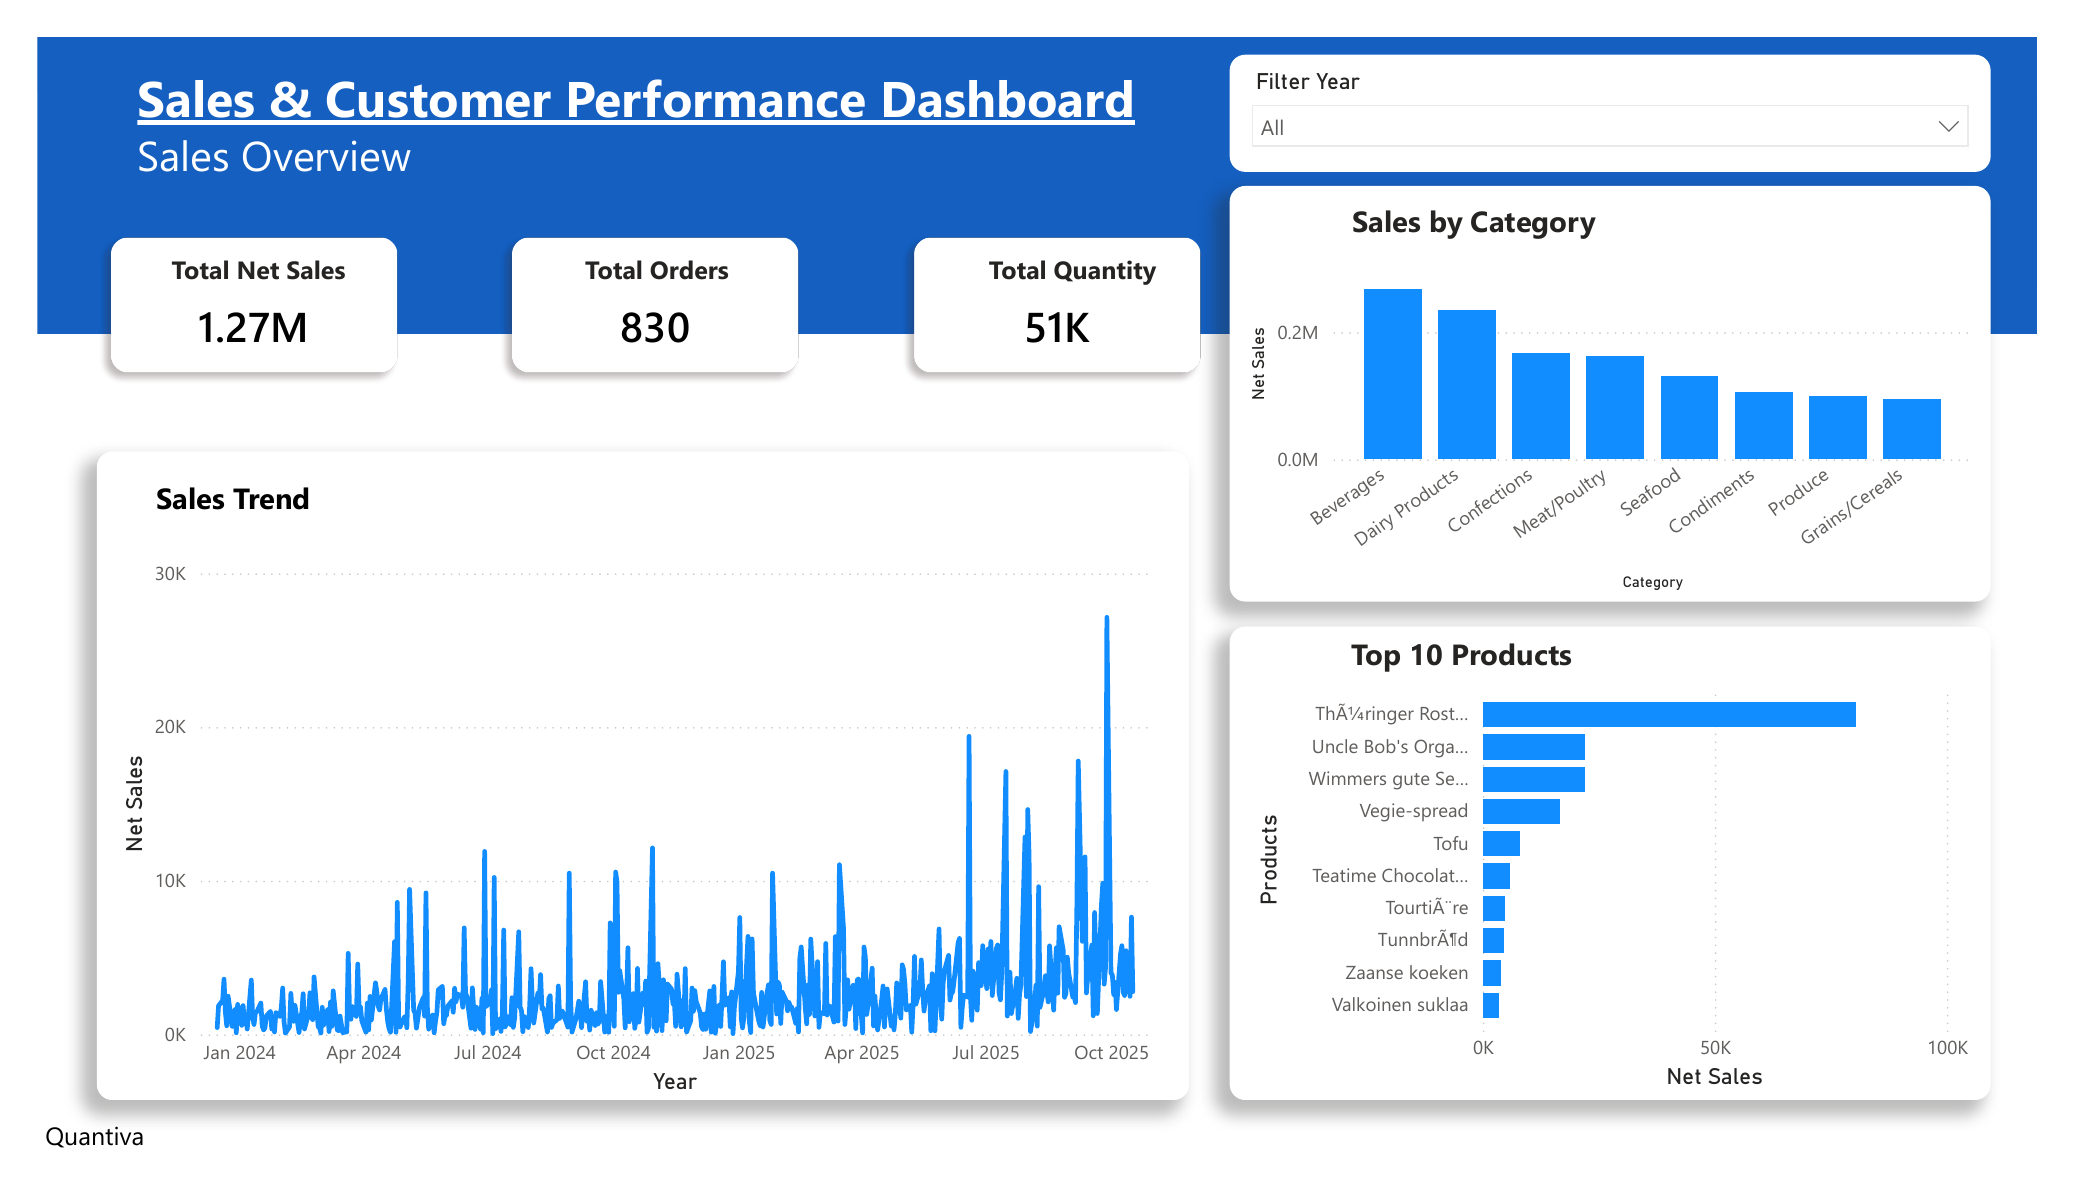

The dashboard page shown, as its layout file describes it:
{"tool":"powerbi","page":{"name":"Page 1","canvas":[1280,720],"ordinal":0},"visuals":[{"type":"shape","box":[0,0,1280,190],"z":0},{"type":"shape","box":[763,95,487,266],"z":0,"group":"g3"},{"type":"group","id":"g1","title":"Group 1","box":[38,265,699,415],"z":0,"group":"g2"},{"type":"shape","box":[763,377,487,303],"z":0,"group":"g4"},{"type":"shape","box":[38,265,699,415],"z":500,"group":"g1"},{"type":"textbox","box":[59,11,678,57],"z":1000},{"type":"textbox","box":[62.8,276.8,124.9,51.7],"z":1000,"group":"g2"},{"type":"clusteredBarChart","fields":{"Category":["dataset.product_name"],"Y":["Sum(dataset.net_sales)"]},"box":[771,400,472,280],"z":1000,"group":"g4"},{"type":"textbox","box":[807.6,99.9,223,46.3],"z":2000,"group":"g3"},{"type":"group","id":"g2","title":"Group 2","box":[38,265,699,415],"z":2000},{"type":"textbox","box":[807.6,377,207.7,46.8],"z":2000,"group":"g4"},{"type":"group","id":"g3","title":"Group 3","box":[763,95,487,266],"z":3000},{"type":"cardVisual","fields":{"Data":["Sum(dataset.net_sales)","Count(dataset.order_id)","Sum(dataset.quantity)"]},"box":[0,96,793,150],"z":3000,"group":"g5"},{"type":"textbox","box":[76,133,131,38],"z":4000,"group":"g5"},{"type":"group","id":"g4","title":"Group 3","box":[763,377,487,303],"z":4000},{"type":"group","id":"g5","title":"Group 4","box":[0,96,793,150],"z":5000},{"type":"textbox","box":[59,52,232,48],"z":6000},{"type":"textbox","box":[331,133,131,38],"z":6000,"group":"g5"},{"type":"textbox","box":[597,133,131,38],"z":7000,"group":"g5"},{"type":"textbox","box":[0,687,92,33],"z":7000},{"type":"slicer","fields":{"Values":["dataset.order_date.Variation.Date Hierarchy.Year"]},"box":[763,11,487,75],"z":8000},{"type":"clusteredColumnChart","fields":{"Category":["dataset.category_name"],"Y":["Sum(dataset.net_sales)"]},"box":[771.3,133.6,471.7,225],"z":9000},{"type":"lineChart","fields":{"Y":["Sum(dataset.net_sales)"],"Category":["dataset.order_date"]},"box":[48.5,328.2,680.9,351.8],"z":10000,"group":"g1"}]}

Visuals, with their boxes on the page's 1280x720 design canvas (x1, y1, x2, y2). These are canvas units, not pixel positions in the 2075x1200 screenshot, which may show the page scaled, cropped or inside an application window:
shape: (0, 0, 1280, 190)
shape: (763, 95, 1250, 361)
"Group 1" group: (38, 265, 737, 680)
shape: (763, 377, 1250, 680)
shape: (38, 265, 737, 680)
textbox: (59, 11, 737, 68)
textbox: (63, 277, 188, 328)
clusteredBarChart - dataset.product_name x Sum(dataset.net_sales): (771, 400, 1243, 680)
textbox: (808, 100, 1031, 146)
"Group 2" group: (38, 265, 737, 680)
textbox: (808, 377, 1015, 424)
"Group 3" group: (763, 95, 1250, 361)
cardVisual - Sum(dataset.net_sales) x Count(dataset.order_id): (0, 96, 793, 246)
textbox: (76, 133, 207, 171)
"Group 3" group: (763, 377, 1250, 680)
"Group 4" group: (0, 96, 793, 246)
textbox: (59, 52, 291, 100)
textbox: (331, 133, 462, 171)
textbox: (597, 133, 728, 171)
textbox: (0, 687, 92, 720)
slicer - dataset.order_date.Variation.Date Hierarchy.Year: (763, 11, 1250, 86)
clusteredColumnChart - dataset.category_name x Sum(dataset.net_sales): (771, 134, 1243, 359)
lineChart - Sum(dataset.net_sales) x dataset.order_date: (48, 328, 729, 680)
